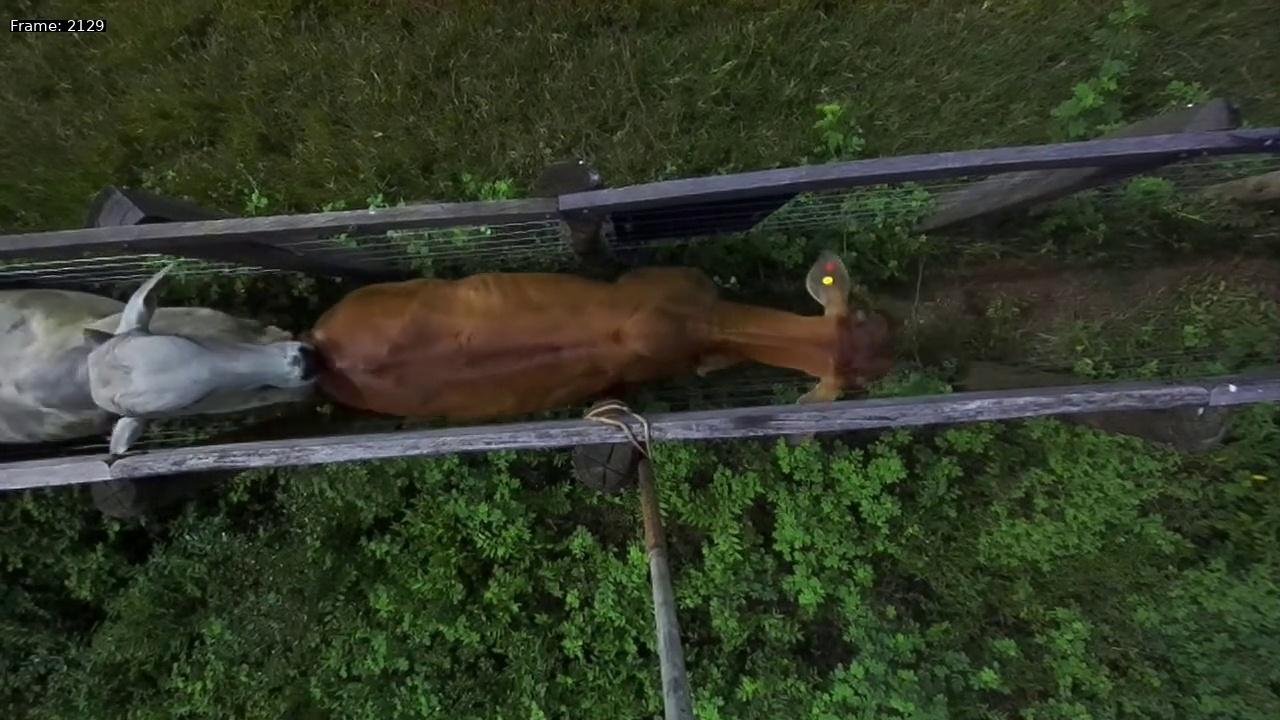cattle: (292, 232, 915, 429)
